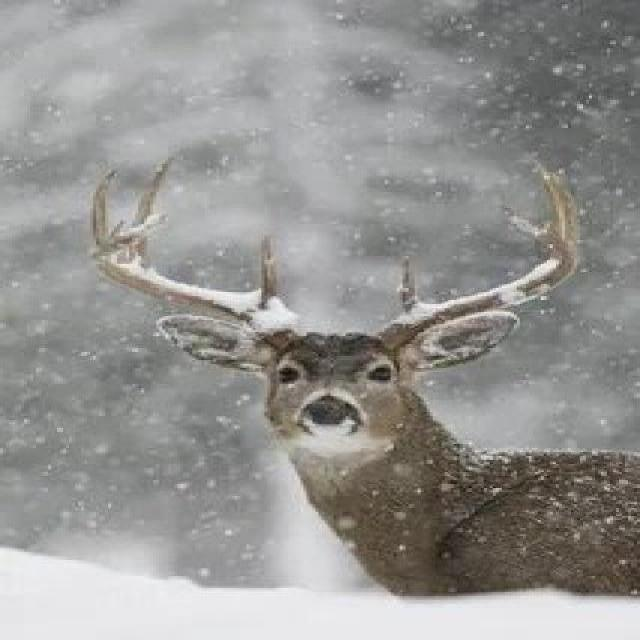deer: (115, 169, 640, 640)
